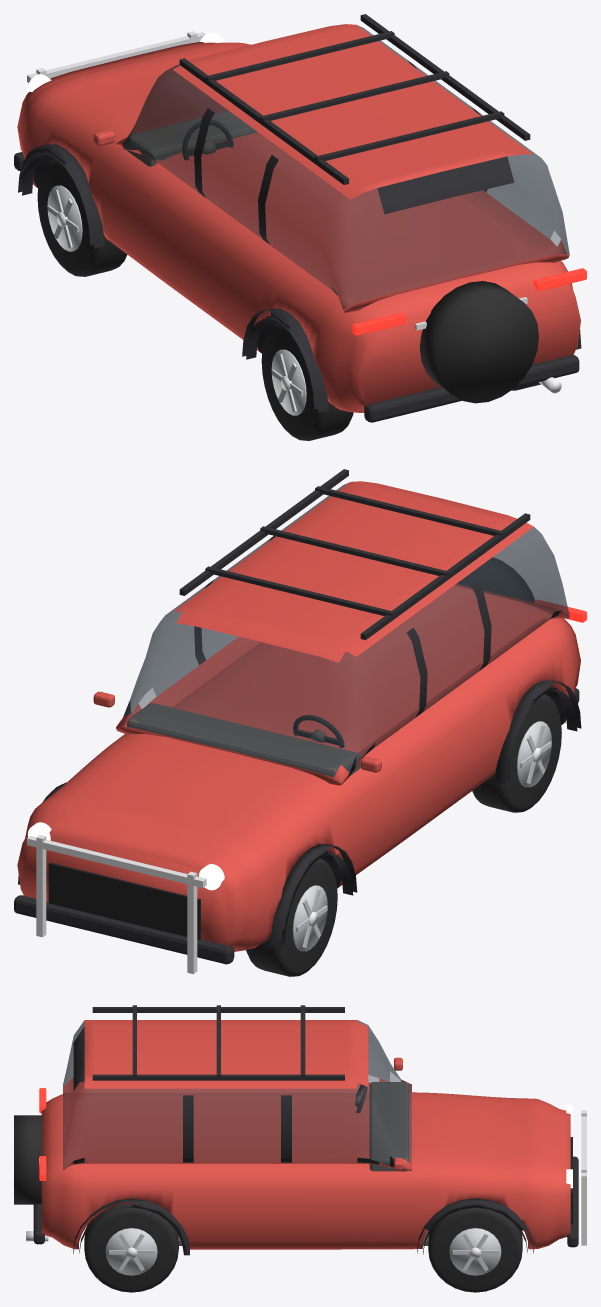
File: suv.glb
3 views of the same model, one above another, from view 1: azimuth 30°, elevation 25°; view 2: azimuth 150°, elevation 25°; view 3: azimuth 270°, elevation 25° (orthographic). The views are drawn at different scales.
Visible parts, largest first — view 1: Body.007, Glass.007, Wheel_RL.007, Wheel_FL.007, Interior.007, Lights_Tail.007, SteeringWheel.007; view 2: Body.007, Glass.007, Interior.007, Wheel_FL.007, Wheel_RL.007, Lights_Head.007, SteeringWheel.007; view 3: Body.007, Glass.007, Wheel_RR.007, Wheel_FR.007, Interior.007, Lights_Tail.007.
Boxes of the visible parts, x1,y1,x2,y2 form: Body.007: (14, 14, 581, 422); Glass.007: (123, 25, 569, 309); Wheel_RL.007: (261, 322, 353, 440); Wheel_FL.007: (37, 158, 127, 276); Interior.007: (127, 111, 257, 166); Lights_Tail.007: (352, 268, 586, 335); SteeringWheel.007: (182, 120, 233, 160); Body.007: (14, 469, 581, 974); Glass.007: (123, 482, 569, 777); Interior.007: (127, 703, 360, 777); Wheel_FL.007: (246, 858, 337, 976); Wheel_RL.007: (472, 694, 561, 812); Lights_Head.007: (27, 822, 224, 890); SteeringWheel.007: (293, 715, 344, 747); Body.007: (14, 1005, 586, 1255); Glass.007: (63, 1020, 411, 1170); Wheel_RR.007: (84, 1205, 178, 1292); Wheel_FR.007: (428, 1207, 522, 1292); Interior.007: (178, 1082, 428, 1245); Lights_Tail.007: (39, 1088, 46, 1180).
Size of the model in its own units: 2.24 by 2.05 by 5.09.
